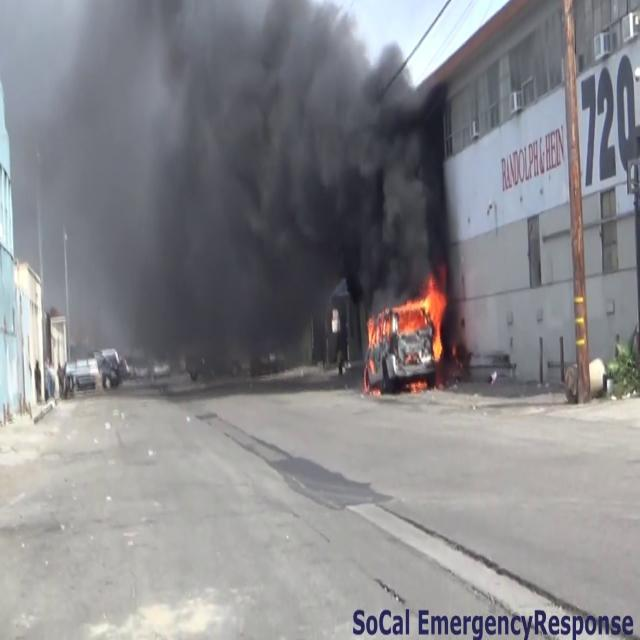Fire: (365, 274, 451, 384)
Smoke: (14, 0, 466, 344)
